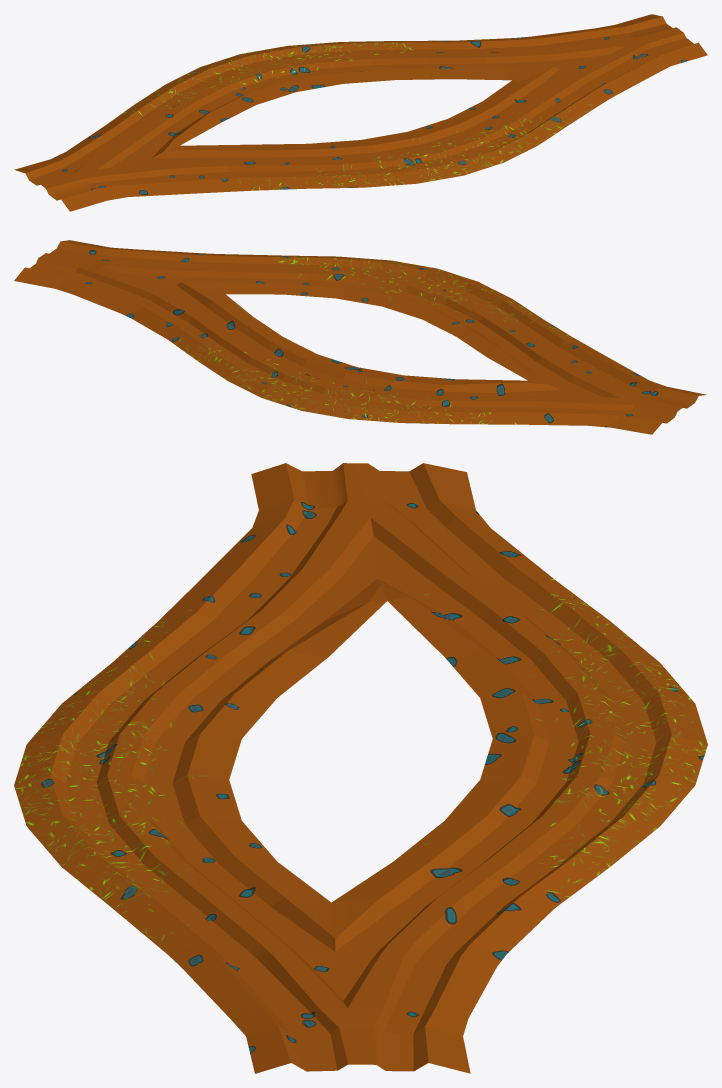
The model's file is Road_grooves_Diverge2.fbx.
The picture shows the model from 3 angles, top to bottom: view 1: azimuth 30°, elevation 25°; view 2: azimuth 150°, elevation 25°; view 3: azimuth 270°, elevation 25°; orthographic projection. The views are drawn at different scales.
Parts seen in each view (by area): view 1: DIVERSE1; view 2: DIVERSE1; view 3: DIVERSE1.
Part boxes in pixels (x1=…): DIVERSE1: x1=14, y1=14, x2=707, y2=211; DIVERSE1: x1=14, y1=240, x2=706, y2=434; DIVERSE1: x1=14, y1=463, x2=707, y2=1073.
Size of the model in its own units: 5548 by 58.79 by 2710.
